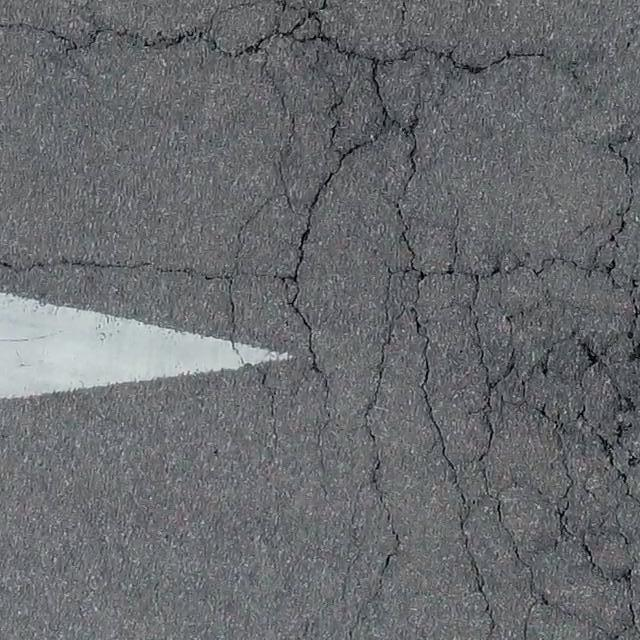GRIETA: (0, 22, 196, 53), (0, 258, 230, 279)
PIEL DE COCODRILO: (196, 0, 639, 639)
